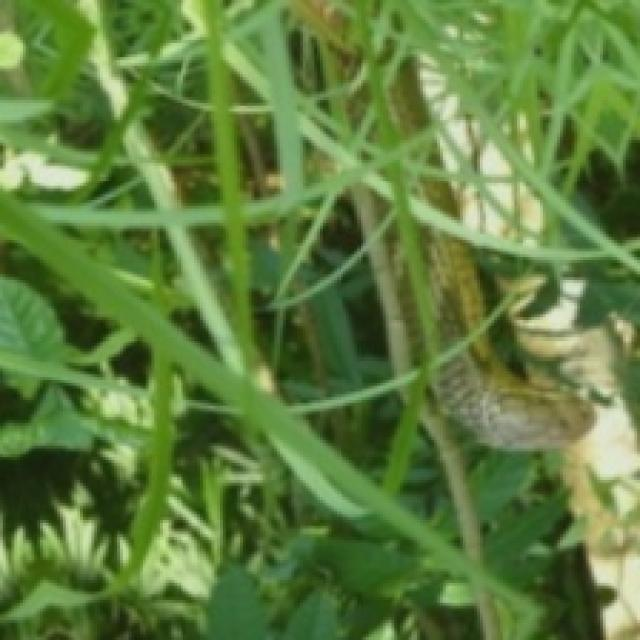king cobra: (289, 0, 591, 446)
